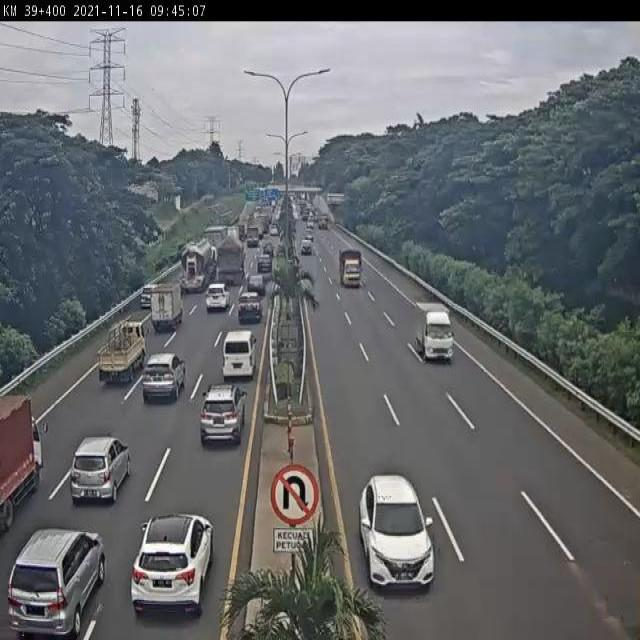car: (7, 529, 105, 635), (358, 474, 435, 590), (131, 515, 215, 616), (68, 436, 132, 504), (200, 380, 245, 447), (142, 354, 185, 402), (220, 335, 256, 381), (238, 291, 264, 320), (206, 283, 230, 313), (248, 274, 270, 298), (137, 291, 154, 313)
mid truck: (212, 239, 245, 292)
small truck: (97, 320, 148, 384), (413, 300, 454, 363), (152, 284, 183, 335)
truck-m-: (339, 249, 363, 288)
truck-xl-: (176, 239, 215, 292)
